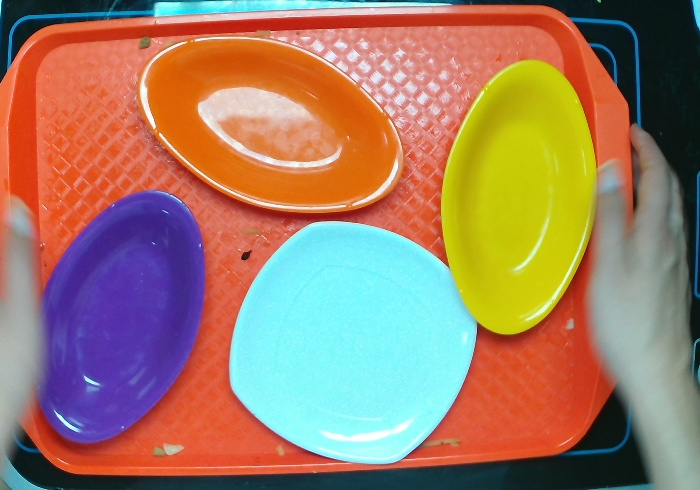RJxy-Fen_Hong_Tuo_Yuan: (30, 182, 222, 458)
RJxy-Huang_Se_Tuo_Yuan: (432, 50, 603, 344)
RJxy-Ju_Huang_Tuo_Yuan: (129, 23, 409, 221)
RJxy-Si_Fang_Die: (224, 216, 481, 465)
